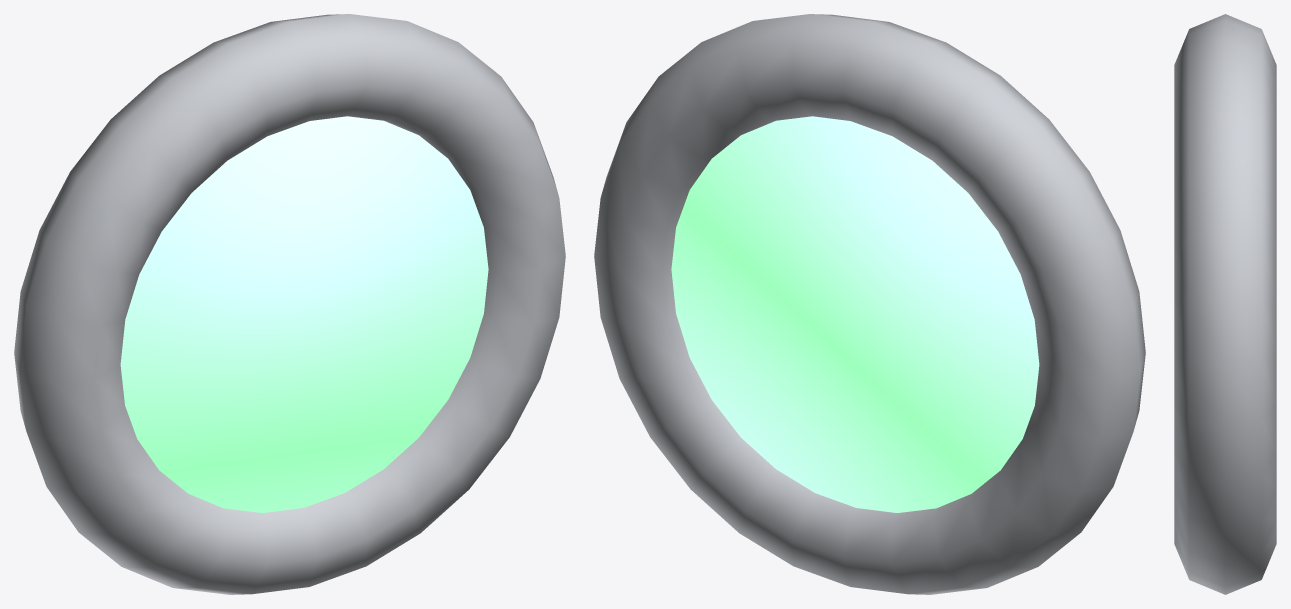
Rendered from wall_light_porthole_glow.glb.
3 views of the same model, side by side, from view 1: azimuth 30°, elevation 25°; view 2: azimuth 150°, elevation 25°; view 3: azimuth 270°, elevation 25° (orthographic). The views are drawn at different scales.
Parts seen in each view (by area): view 1: GD_wall_light_porthole_glow__m0, GD_wall_light_porthole_glow__m1; view 2: GD_wall_light_porthole_glow__m0, GD_wall_light_porthole_glow__m1; view 3: GD_wall_light_porthole_glow__m0.
Part boxes in pixels (left/top/right/bottom): GD_wall_light_porthole_glow__m0: left=14, top=14, right=565, bottom=594; GD_wall_light_porthole_glow__m1: left=120, top=116, right=488, bottom=512; GD_wall_light_porthole_glow__m0: left=594, top=14, right=1145, bottom=594; GD_wall_light_porthole_glow__m1: left=671, top=116, right=1039, bottom=512; GD_wall_light_porthole_glow__m0: left=1174, top=14, right=1276, bottom=594.
Bounding box in the file's own units: 0.34 × 0.34 × 0.06.
